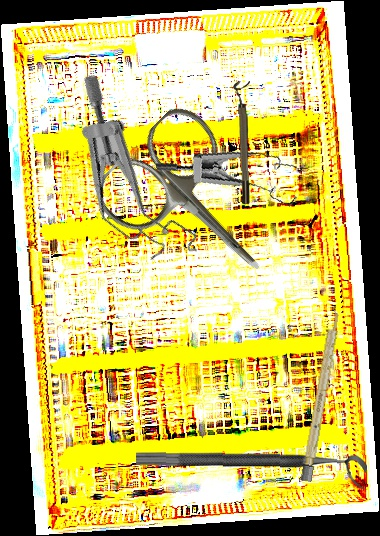Fixation Ring: (135, 450, 368, 490), (232, 80, 253, 205)
Iris Scissors: (85, 97, 306, 318)
Scalpel Handle: (300, 308, 342, 483)
Speculum: (19, 69, 247, 282), (155, 131, 310, 233)
